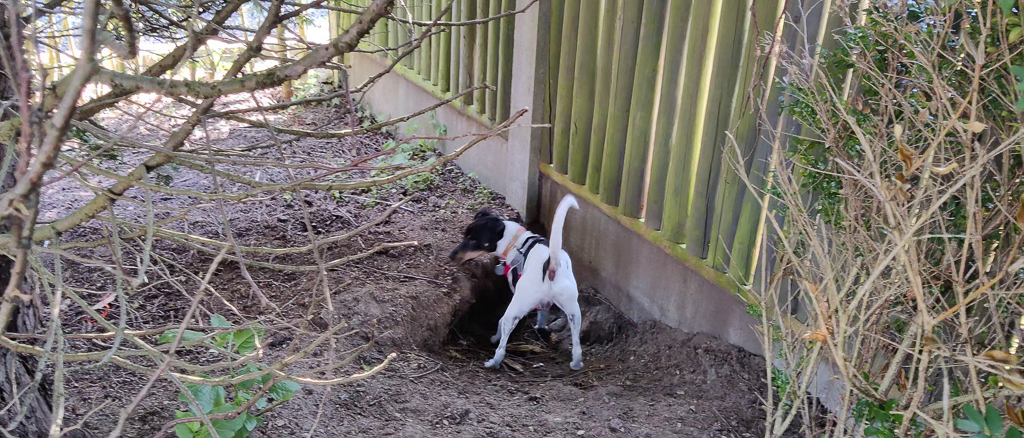Dog: (442, 192, 600, 376)
